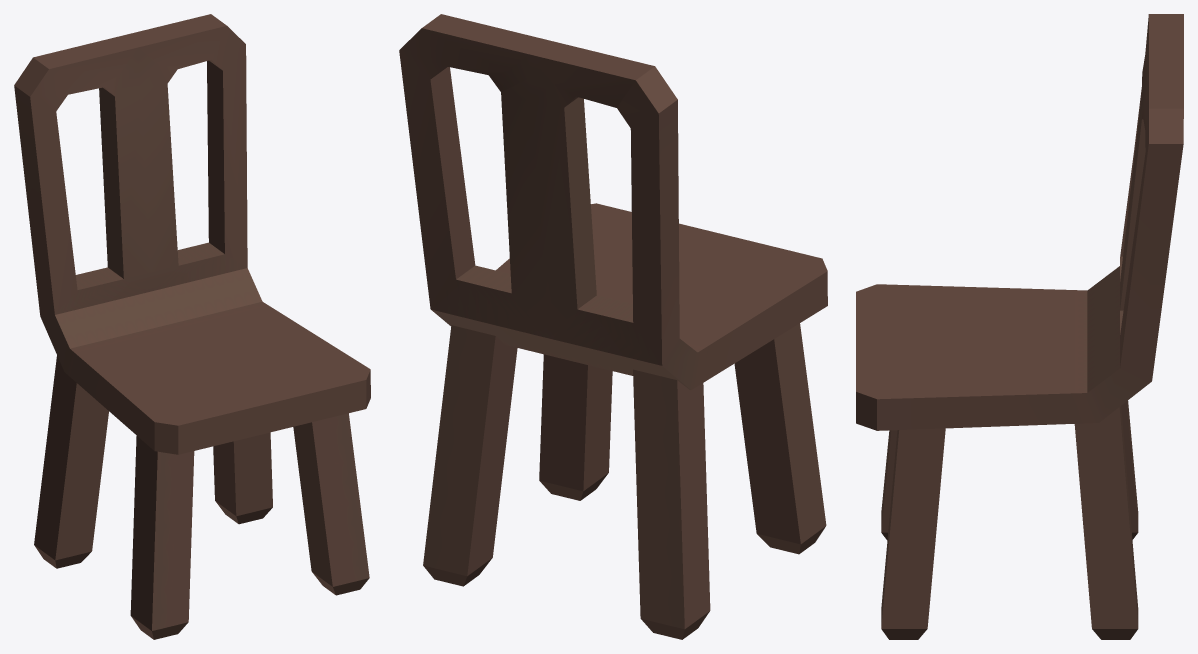
File: chair(2).fbx
The picture shows the model from 3 angles, left to right: view 1: azimuth 30°, elevation 25°; view 2: azimuth 150°, elevation 25°; view 3: azimuth 270°, elevation 25°; orthographic projection. The views are drawn at different scales.
Parts seen in each view (by area): view 1: chair(2); view 2: chair(2); view 3: chair(2).
Boxes of the visible parts, box(x1,y1,x2,y2) form: chair(2): box(14, 14, 370, 639); chair(2): box(399, 14, 827, 639); chair(2): box(856, 14, 1183, 639).
Size of the model in its own units: 39.18 by 82.52 by 46.81.
